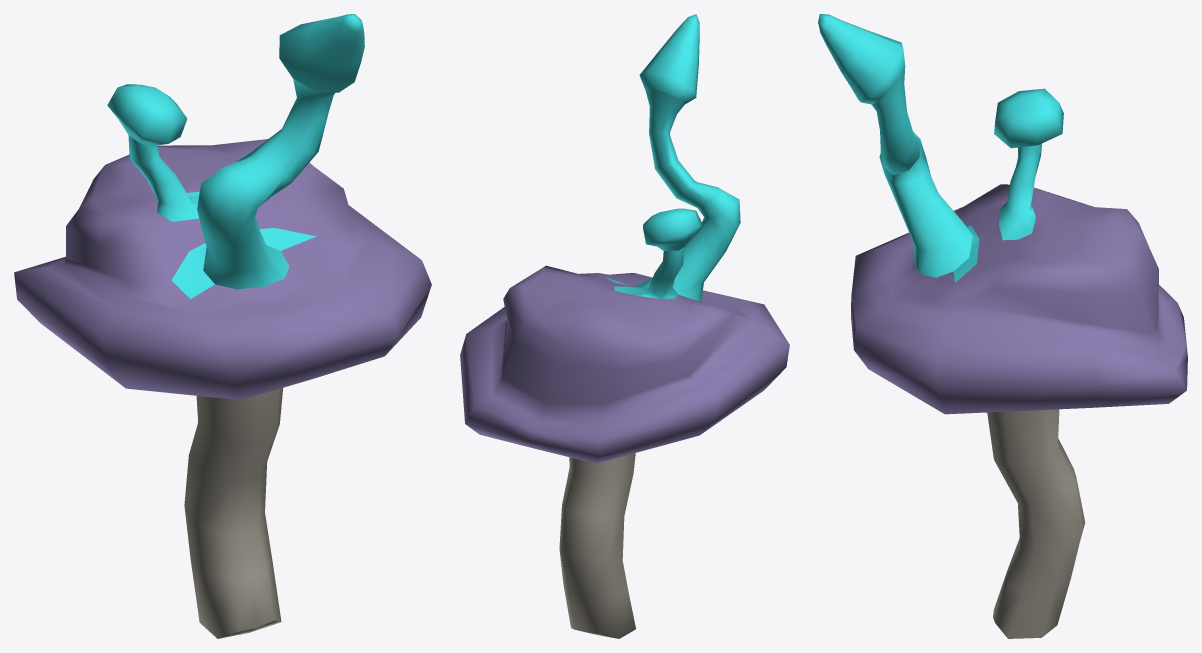
The model's file is Champi_test.fbx.
The picture shows the model from 3 angles, left to right: view 1: azimuth 30°, elevation 25°; view 2: azimuth 150°, elevation 25°; view 3: azimuth 270°, elevation 25°; orthographic projection. The views are drawn at different scales.
Visible parts, largest first — view 1: Champi_04; view 2: Champi_04; view 3: Champi_04.
Boxes of the visible parts, left/top/right/bottom form: Champi_04: left=14, top=14, right=431, bottom=638; Champi_04: left=460, top=14, right=789, bottom=638; Champi_04: left=818, top=14, right=1187, bottom=638.
Bounding box in the file's own units: 0.2555 × 0.5138 × 0.2811.
